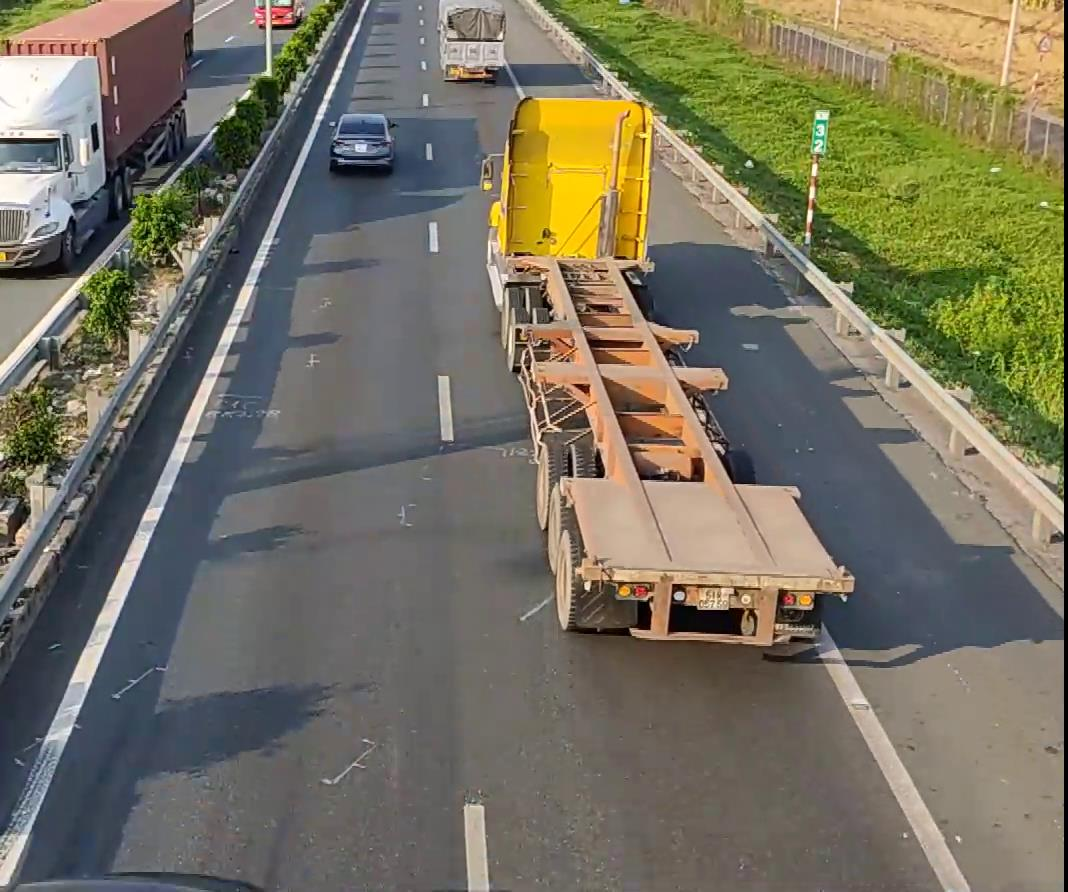car: (328, 111, 397, 172)
container: (477, 86, 853, 660), (0, 0, 198, 274)
truck: (436, 0, 506, 81)
